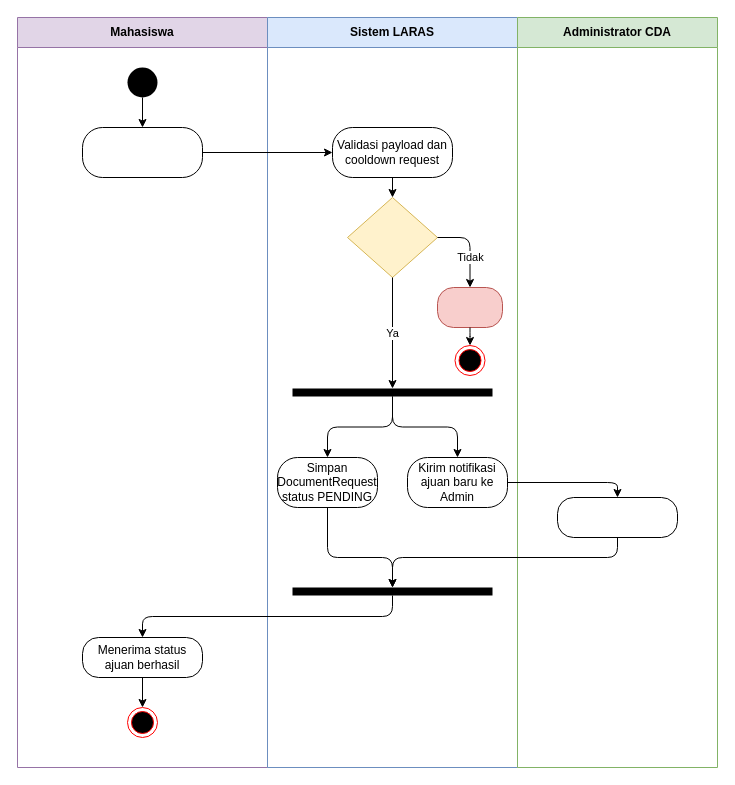
Some shapes in this 735 by 785 pixel diagram are drawn without their labels. The centre of each missing label's shape, as x and y in pixels:
"Cooldown Aman?" belongs at (392,237).
"Memilih menu & Isi formulir" belongs at (142,152).
"Menerima notifikasi" belongs at (617,517).
"Tolak ajuan" belongs at (469,307).
